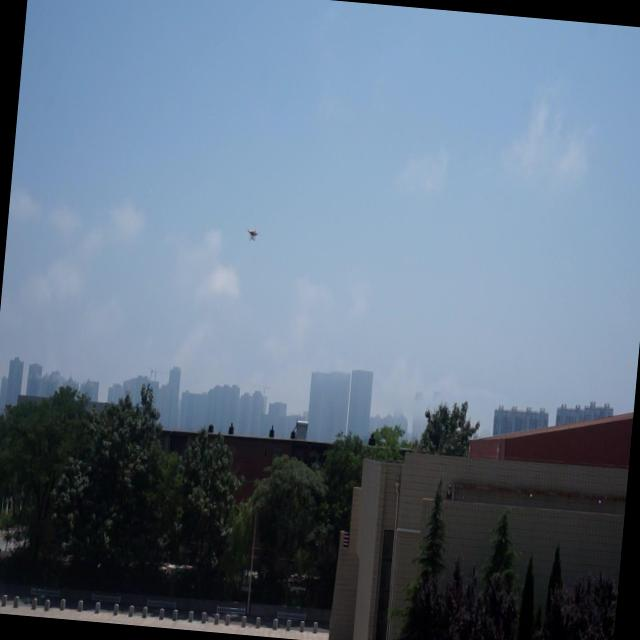drone: (242, 224, 260, 244)
